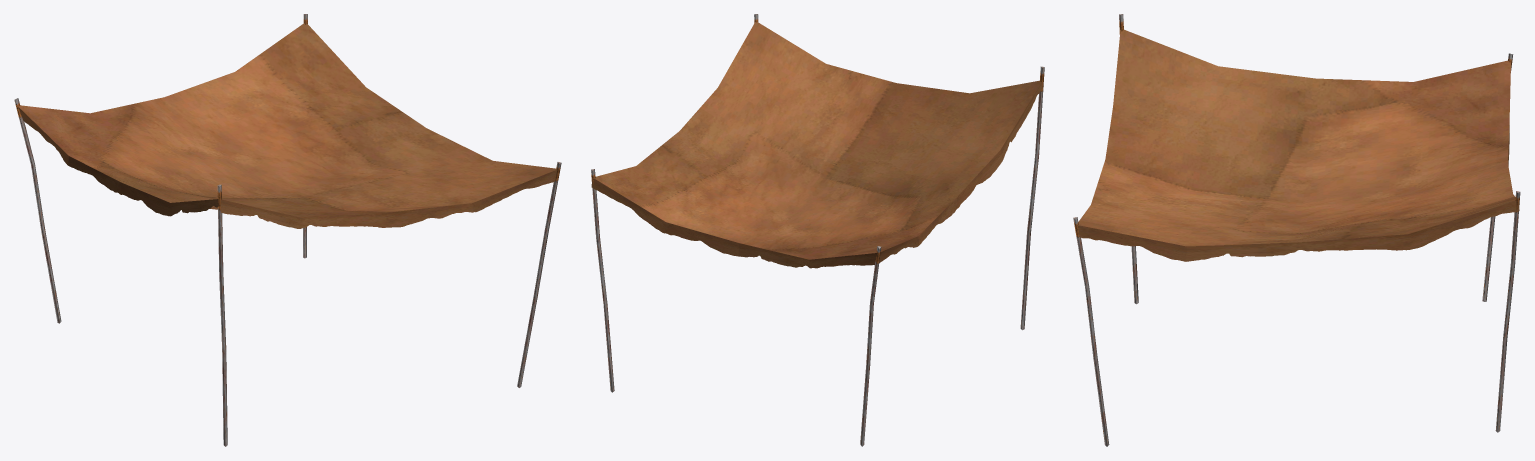
Rendered from thm_tato_jawa_tent_small_l1.fbx.
3 renders of one model, left to right at view 1: azimuth 30°, elevation 25°; view 2: azimuth 150°, elevation 25°; view 3: azimuth 270°, elevation 25°, orthographic. The views are drawn at different scales.
Parts seen in each view (by area): view 1: mesh_node; view 2: mesh_node; view 3: mesh_node.
Part boxes in pixels (x1,y1,x2,y2): mesh_node: (14, 14, 561, 446); mesh_node: (591, 14, 1044, 446); mesh_node: (1073, 14, 1520, 446).
Bounding box in the file's own units: 4.85 × 3.69 × 5.3.
